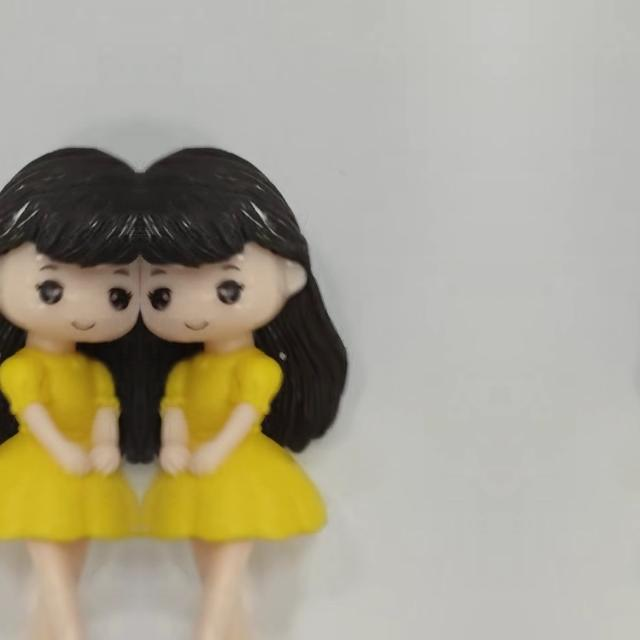woman dress: (142, 352, 328, 638), (0, 352, 137, 637)
